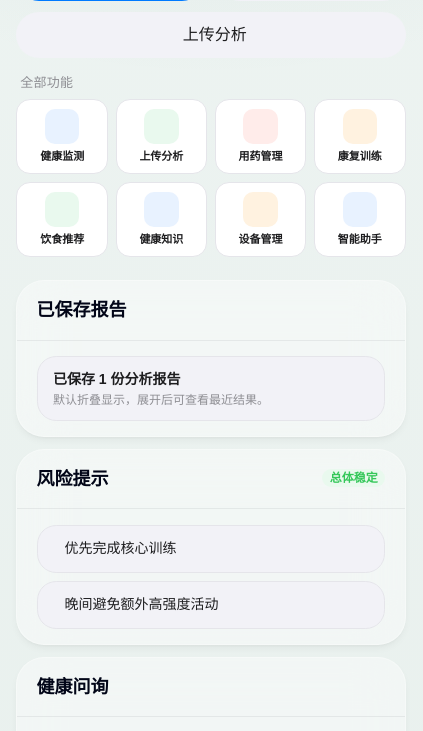
Scenario: HomePage › renders merged overview, monitor section and saved reports
(page scrolled)
Expected: the heading "已保存报告" is shown, [36,296,126,324]
Expected: the text "已保存 1 份分析报告" is shown, [53,370,180,386]
Click the button "已保存 1 份分析报告 默认折叠显示，展开后可查看最近结果。" at (117, 379), box [36,356,385,421]
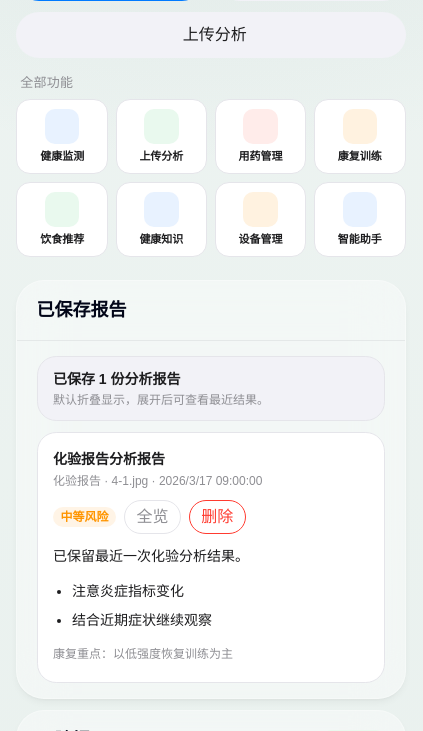
Now the text "化验报告分析报告" is shown, box [53,451,165,467]
